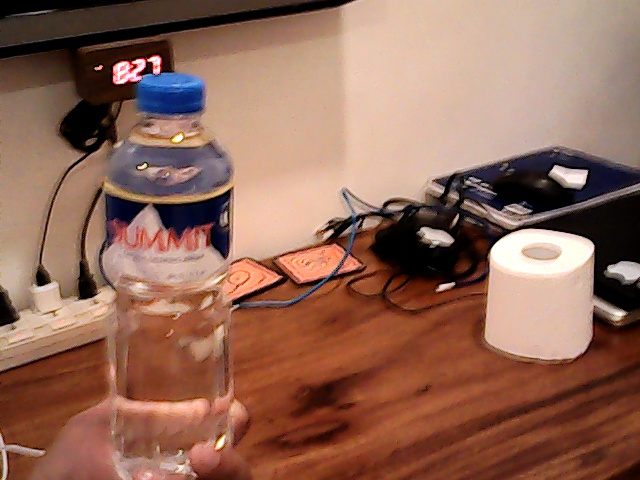Summit Water: (112, 87, 239, 474)
